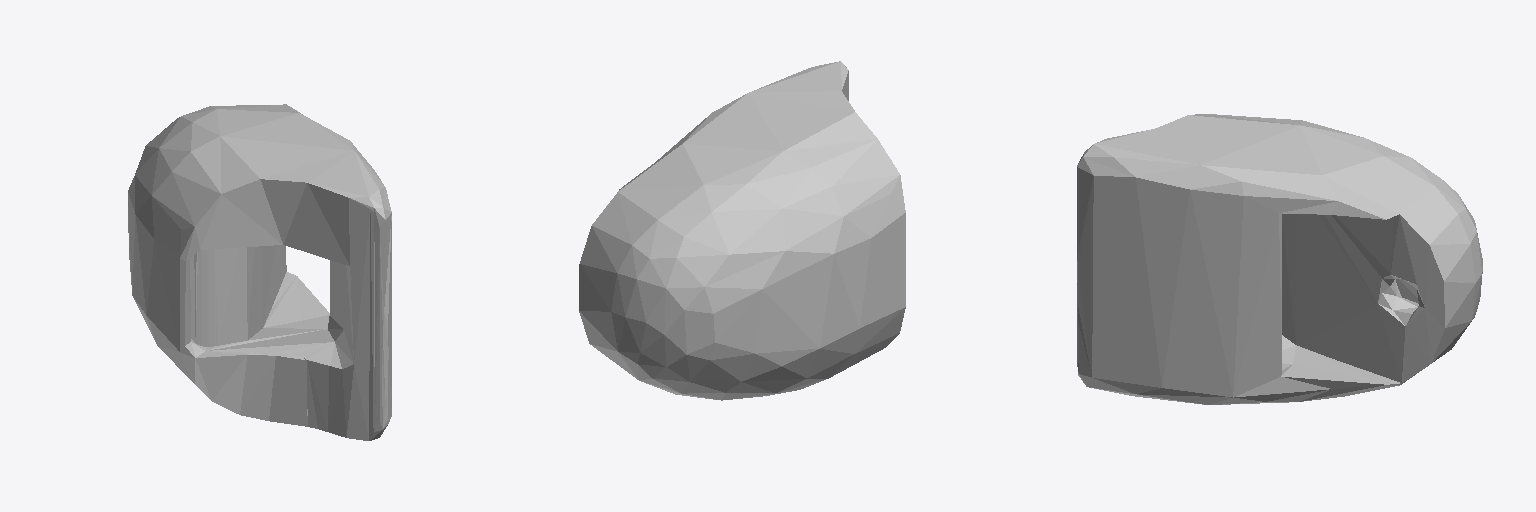
File: right_collision_thumb_dp_skin_mesh_mesh.obj
The picture shows the model from 3 angles: view 1: azimuth 30°, elevation 25°; view 2: azimuth 150°, elevation 25°; view 3: azimuth 270°, elevation 25°; orthographic projection.
Size of the model in its own units: 0.0176 by 0.0192 by 0.0291.